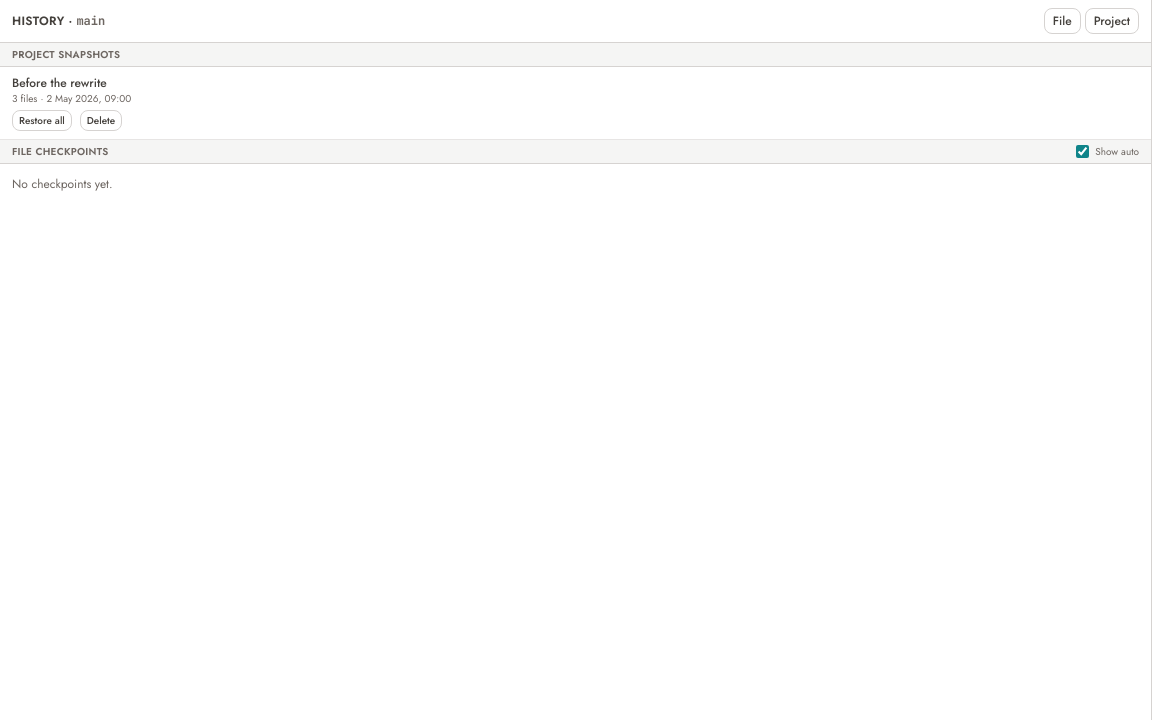
Test case: HistoryPanel project snapshot actions › restore also confirms inline before posting
The image size is (1152, 720).
Step 1. Click the button with test id "project-restore-pc1" → (42, 120), box [12,110,72,131]
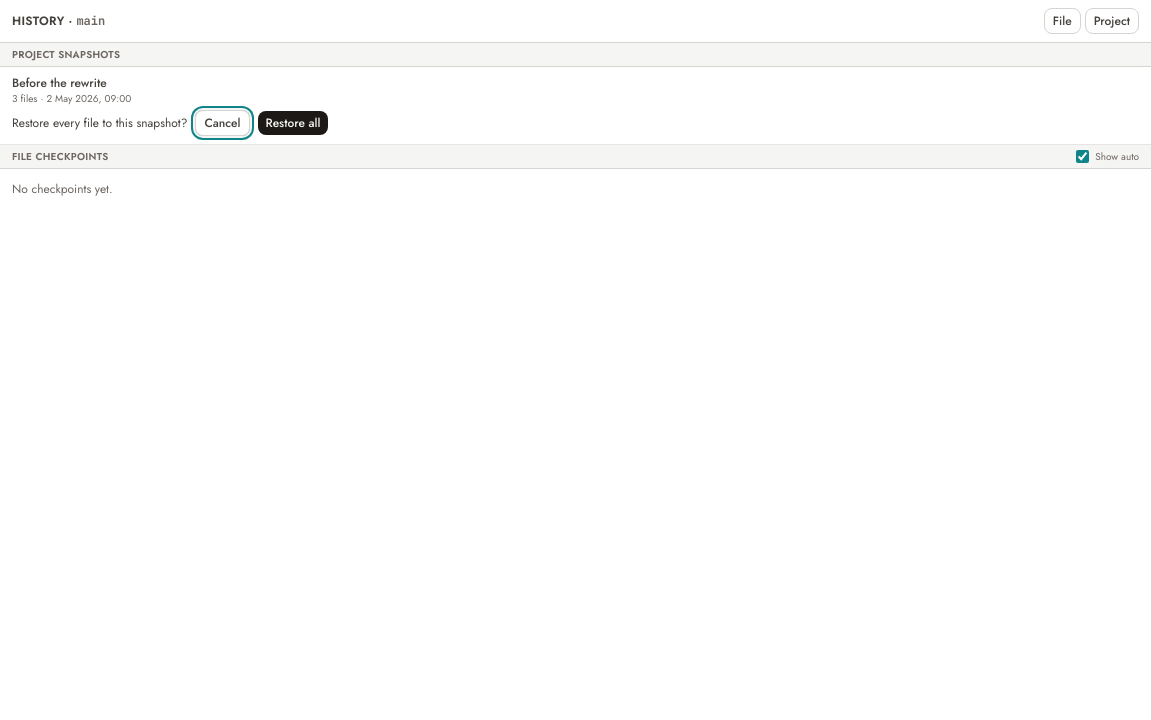
Expected: the button with test id "project-restore-pc1-confirm" reads "Restore all", [258,111,328,135]
Expected: the text "Restore every file to this snapshot?" is shown, [12,115,187,131]
